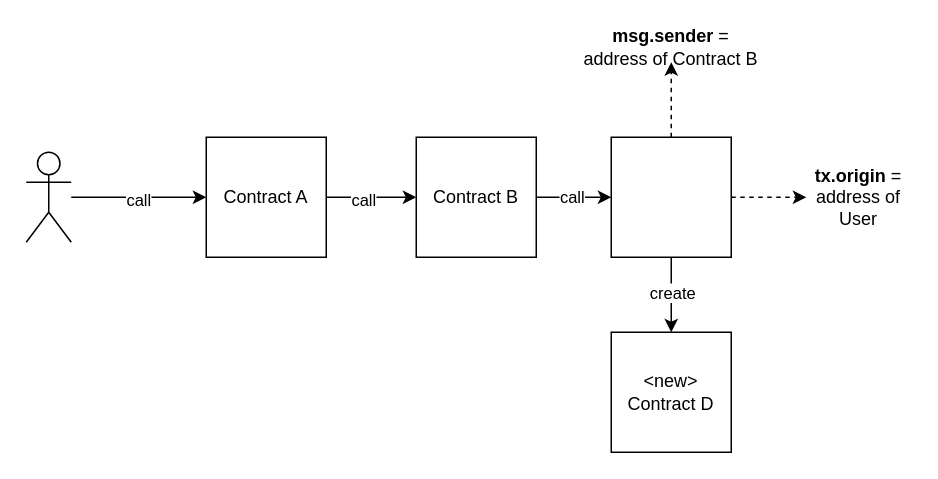
Image size: 938x479. Some labels were removed from this diagram. Each missing label, with the centre of its shape:
"Contract C" belongs at (670,196).
"User" belongs at (48,196).
